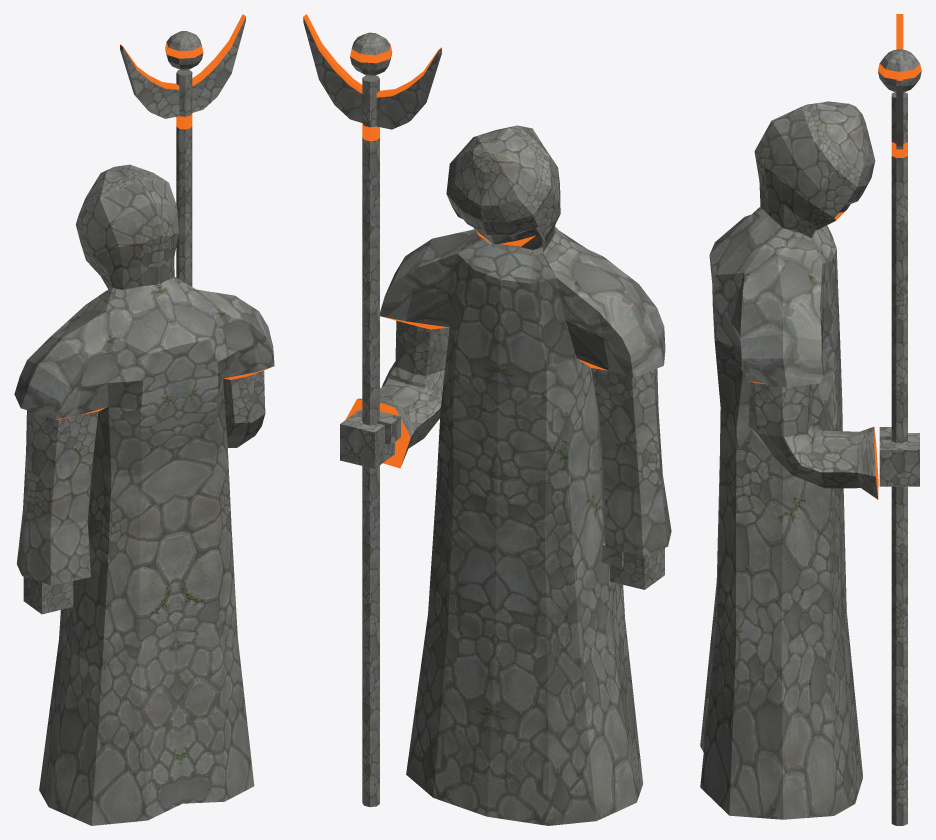
File: L_angle.glb
The picture shows the model from 3 angles, left to right: view 1: azimuth 30°, elevation 25°; view 2: azimuth 150°, elevation 25°; view 3: azimuth 270°, elevation 25°; orthographic projection. The views are drawn at different scales.
Parts seen in each view (by area): view 1: L_angle; view 2: L_angle; view 3: L_angle.
Part boxes in pixels (x1,y1,x2,y2): L_angle: (14, 14, 274, 825); L_angle: (303, 14, 671, 825); L_angle: (700, 14, 921, 825).
Size of what is drawn, in the model's own units: 2.24 by 5.47 by 1.41.
2 materials, 1 textured.
